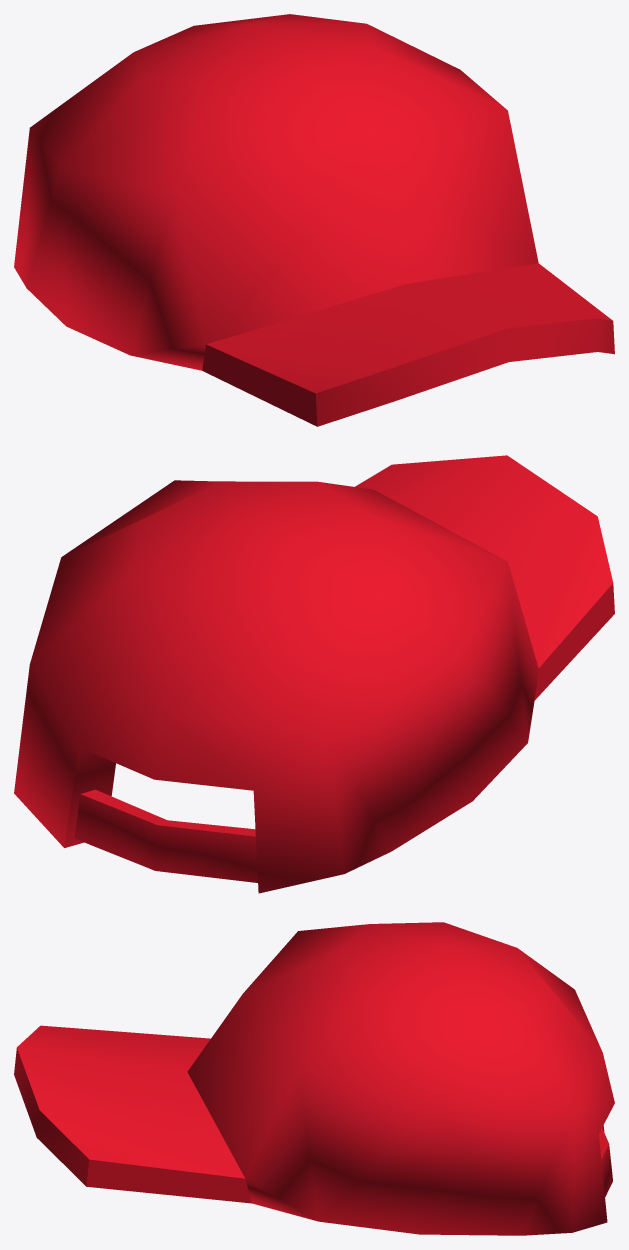
Rendered from hat1.fbx.
3 views of the same model, one above another, from view 1: azimuth 30°, elevation 25°; view 2: azimuth 150°, elevation 25°; view 3: azimuth 270°, elevation 25° (orthographic). The views are drawn at different scales.
Parts seen in each view (by area): view 1: Hat_Cap; view 2: Hat_Cap; view 3: Hat_Cap.
Part boxes in pixels (<box>): Hat_Cap: <box>14,14,614,426</box>; Hat_Cap: <box>14,455,614,893</box>; Hat_Cap: <box>14,922,614,1235</box>.
Bounding box in the file's own units: 0.6945 × 0.4664 × 1.05.
